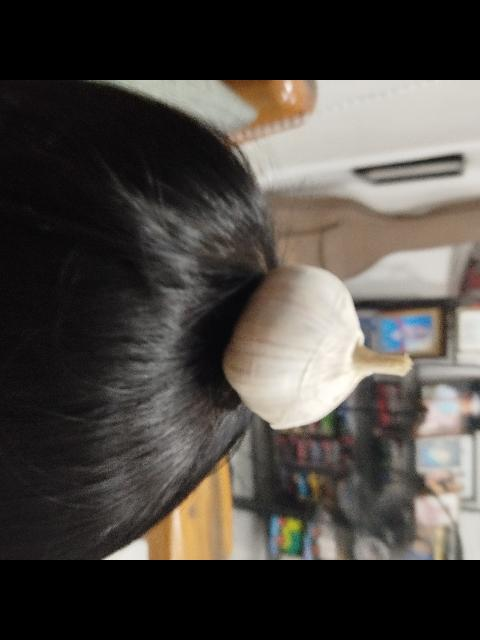garlic: (221, 264, 413, 431)
